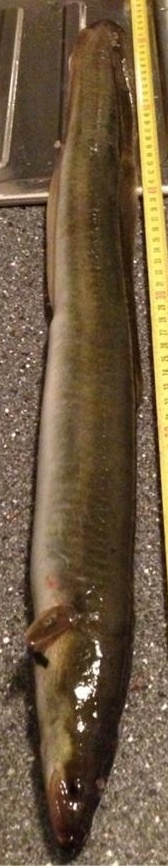Anguilla anguilla: (20, 20, 148, 866)
